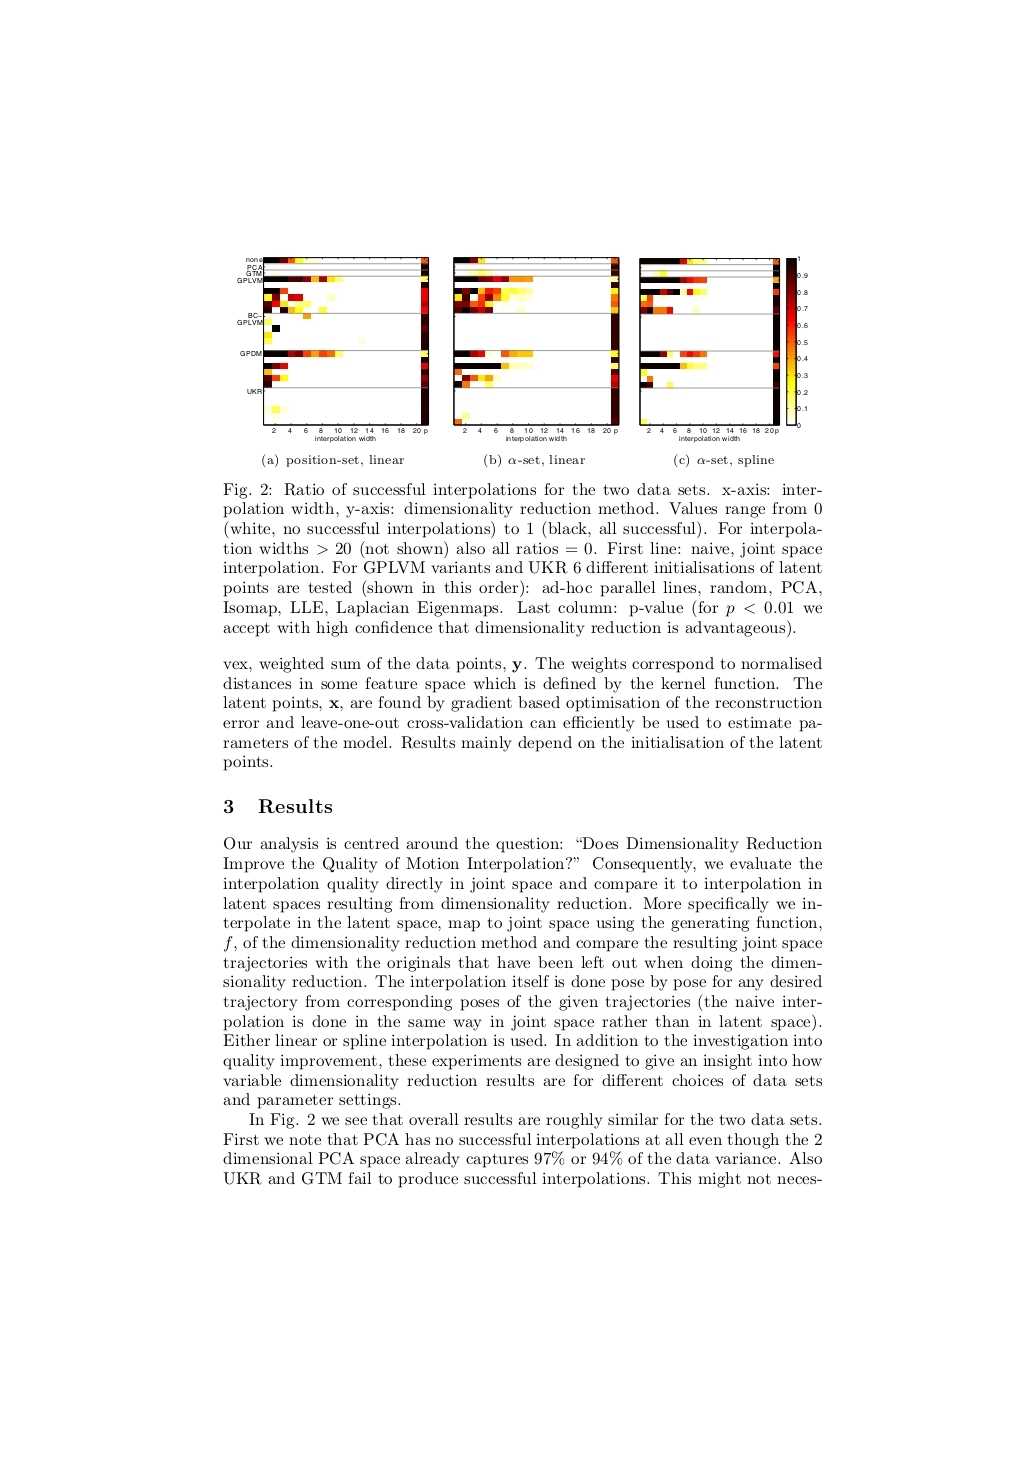figure: (237, 255, 428, 443), (639, 255, 807, 443), (453, 255, 619, 443)
